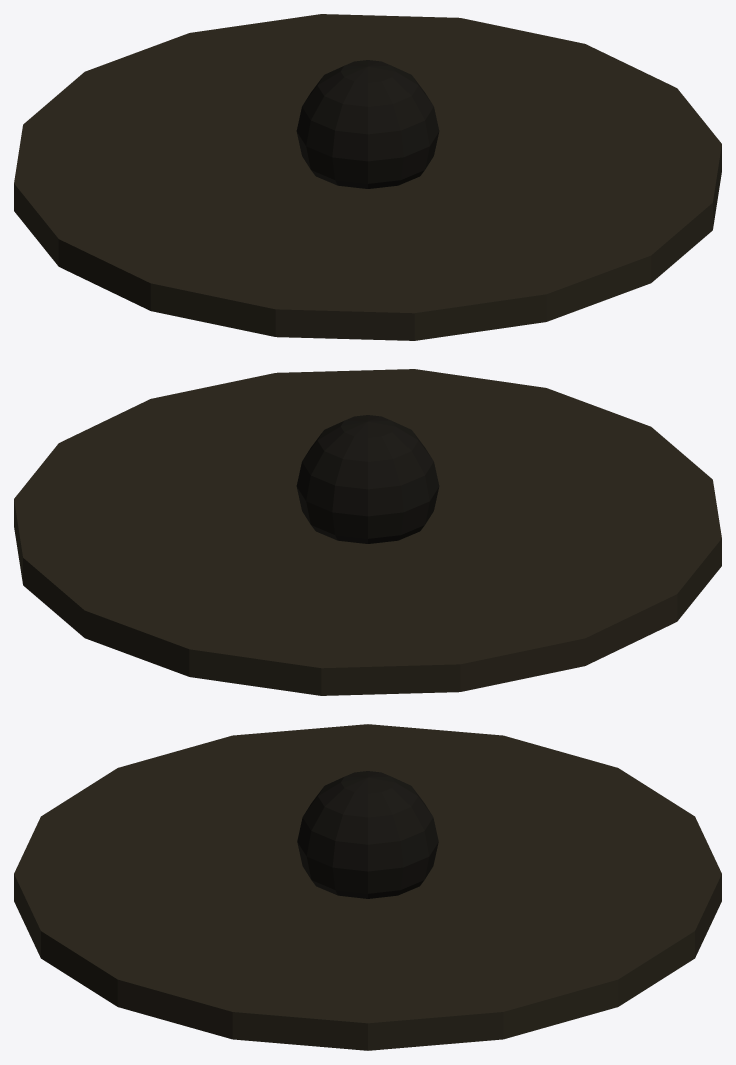
The model's file is RoundShield.fbx.
3 renders of one model, top to bottom at view 1: azimuth 30°, elevation 25°; view 2: azimuth 150°, elevation 25°; view 3: azimuth 270°, elevation 25°, orthographic.
Parts seen in each view (by area): view 1: RoundShield; view 2: RoundShield; view 3: RoundShield.
Part boxes in pixels (x1,y1,x2,y2): RoundShield: (14,14,721,340); RoundShield: (14,369,721,695); RoundShield: (14,724,721,1050).
Bounding box in the file's own units: 70 × 14 × 70.
Materials: 2 (2 with a texture image).
